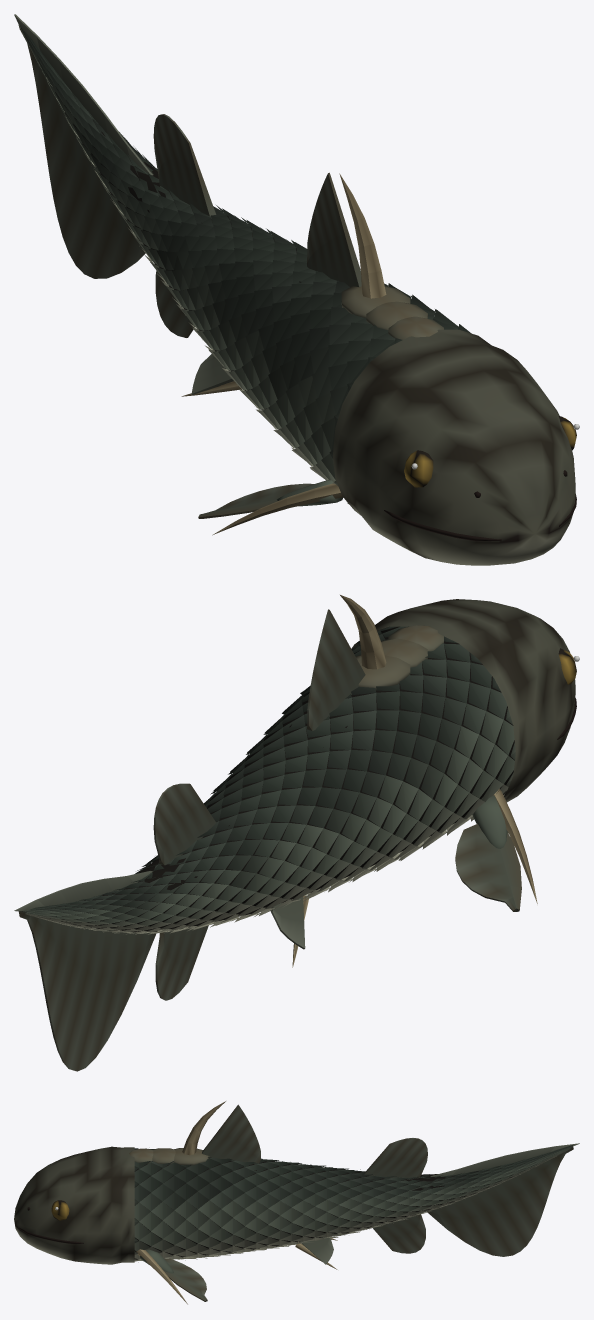
File: MegamastaxAmblyodus.fbx
3 views of the same model, one above another, from view 1: azimuth 30°, elevation 25°; view 2: azimuth 150°, elevation 25°; view 3: azimuth 270°, elevation 25° (orthographic). The views are drawn at different scales.
Parts seen in each view (by area): view 1: MegamastaxAmblyodus; view 2: MegamastaxAmblyodus; view 3: MegamastaxAmblyodus.
Part boxes in pixels (x1,y1,x2,y2): MegamastaxAmblyodus: [14, 14, 579, 565]; MegamastaxAmblyodus: [14, 595, 579, 1071]; MegamastaxAmblyodus: [14, 1101, 579, 1304].
Size of the model in its own units: 0.5876 by 0.5107 by 1.62.
